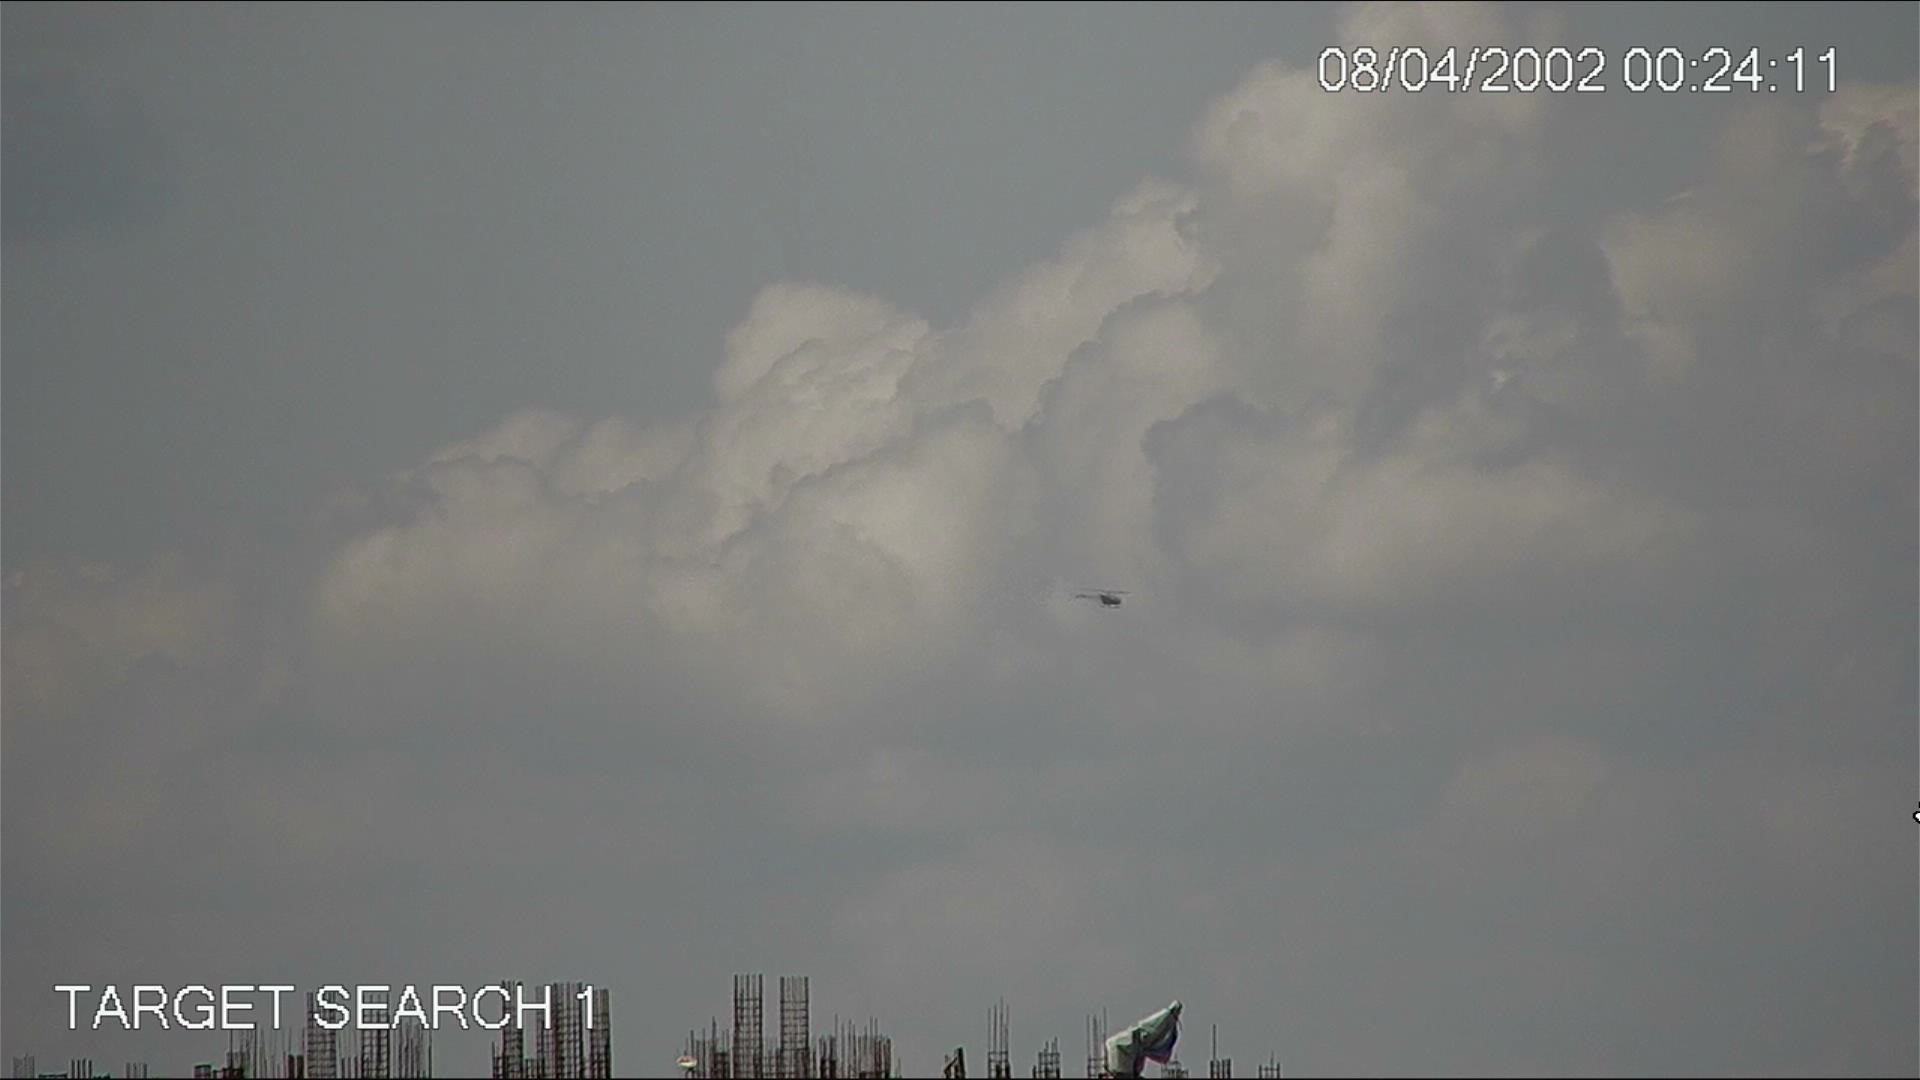SU_30: (1073, 585, 1133, 612)
